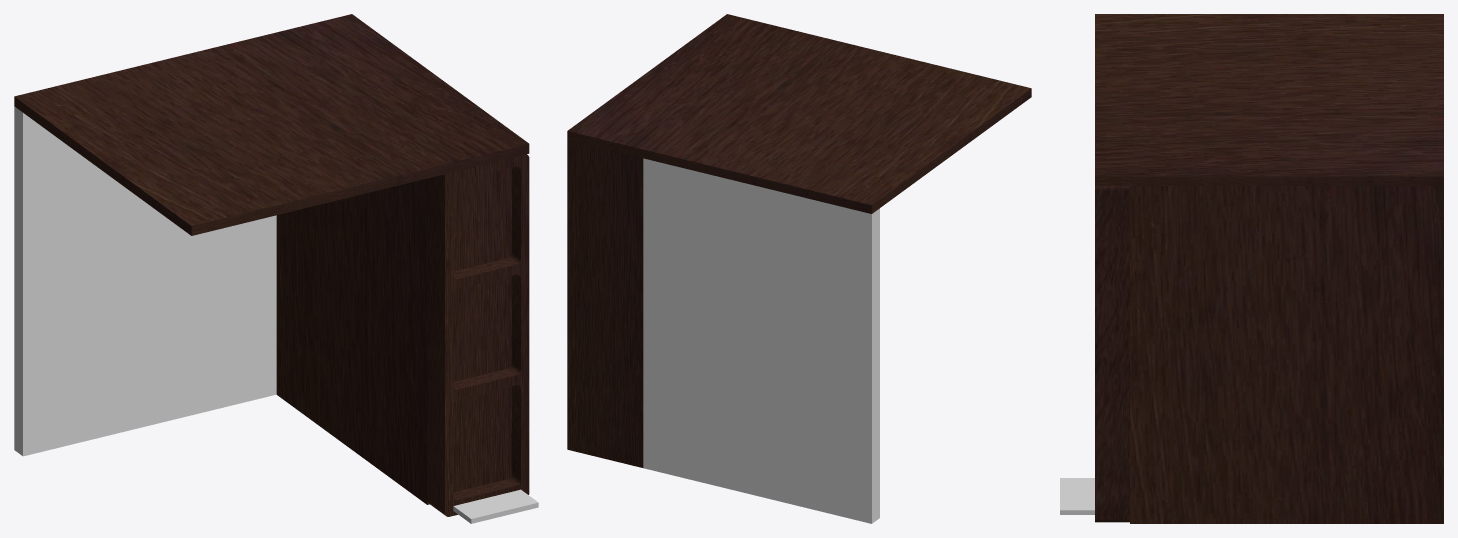
The model's file is sh-lp-mobiletto-specchio-wenge.glb.
3 views of the same model, side by side, from view 1: azimuth 30°, elevation 25°; view 2: azimuth 150°, elevation 25°; view 3: azimuth 270°, elevation 25° (orthographic). The views are drawn at different scales.
Parts seen in each view (by area): view 1: Box08_1, Sphere03_4, Box06_6; view 2: Box08_1, Sphere03_4; view 3: Box08_1, Box06_6.
Part boxes in pixels (box(x1,y1,x2,y2)): Box08_1: box(14, 14, 529, 516); Sphere03_4: box(14, 106, 276, 456); Box06_6: box(453, 489, 538, 523); Box08_1: box(567, 14, 1031, 467); Sphere03_4: box(643, 158, 879, 523); Box08_1: box(1095, 14, 1443, 523); Box06_6: box(1060, 478, 1094, 514).
Bounding box in the file's own units: 1 × 1 × 1.
Materials: 4 (1 with a texture image).
